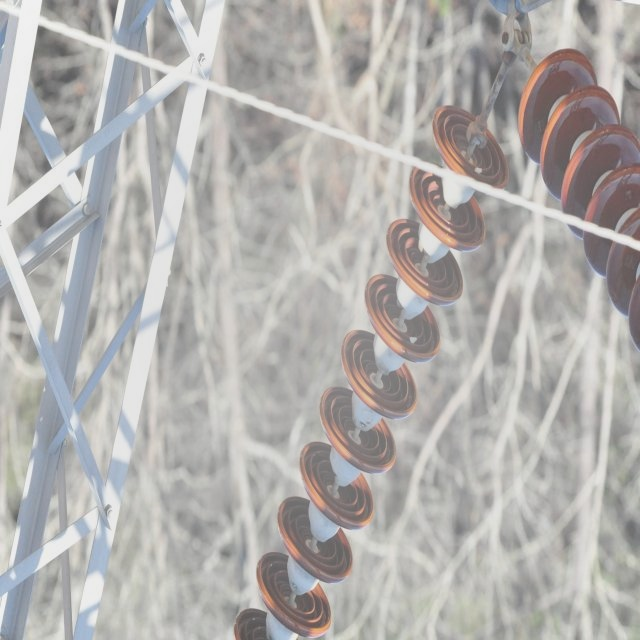insulator: (231, 103, 508, 639), (515, 46, 640, 346)
